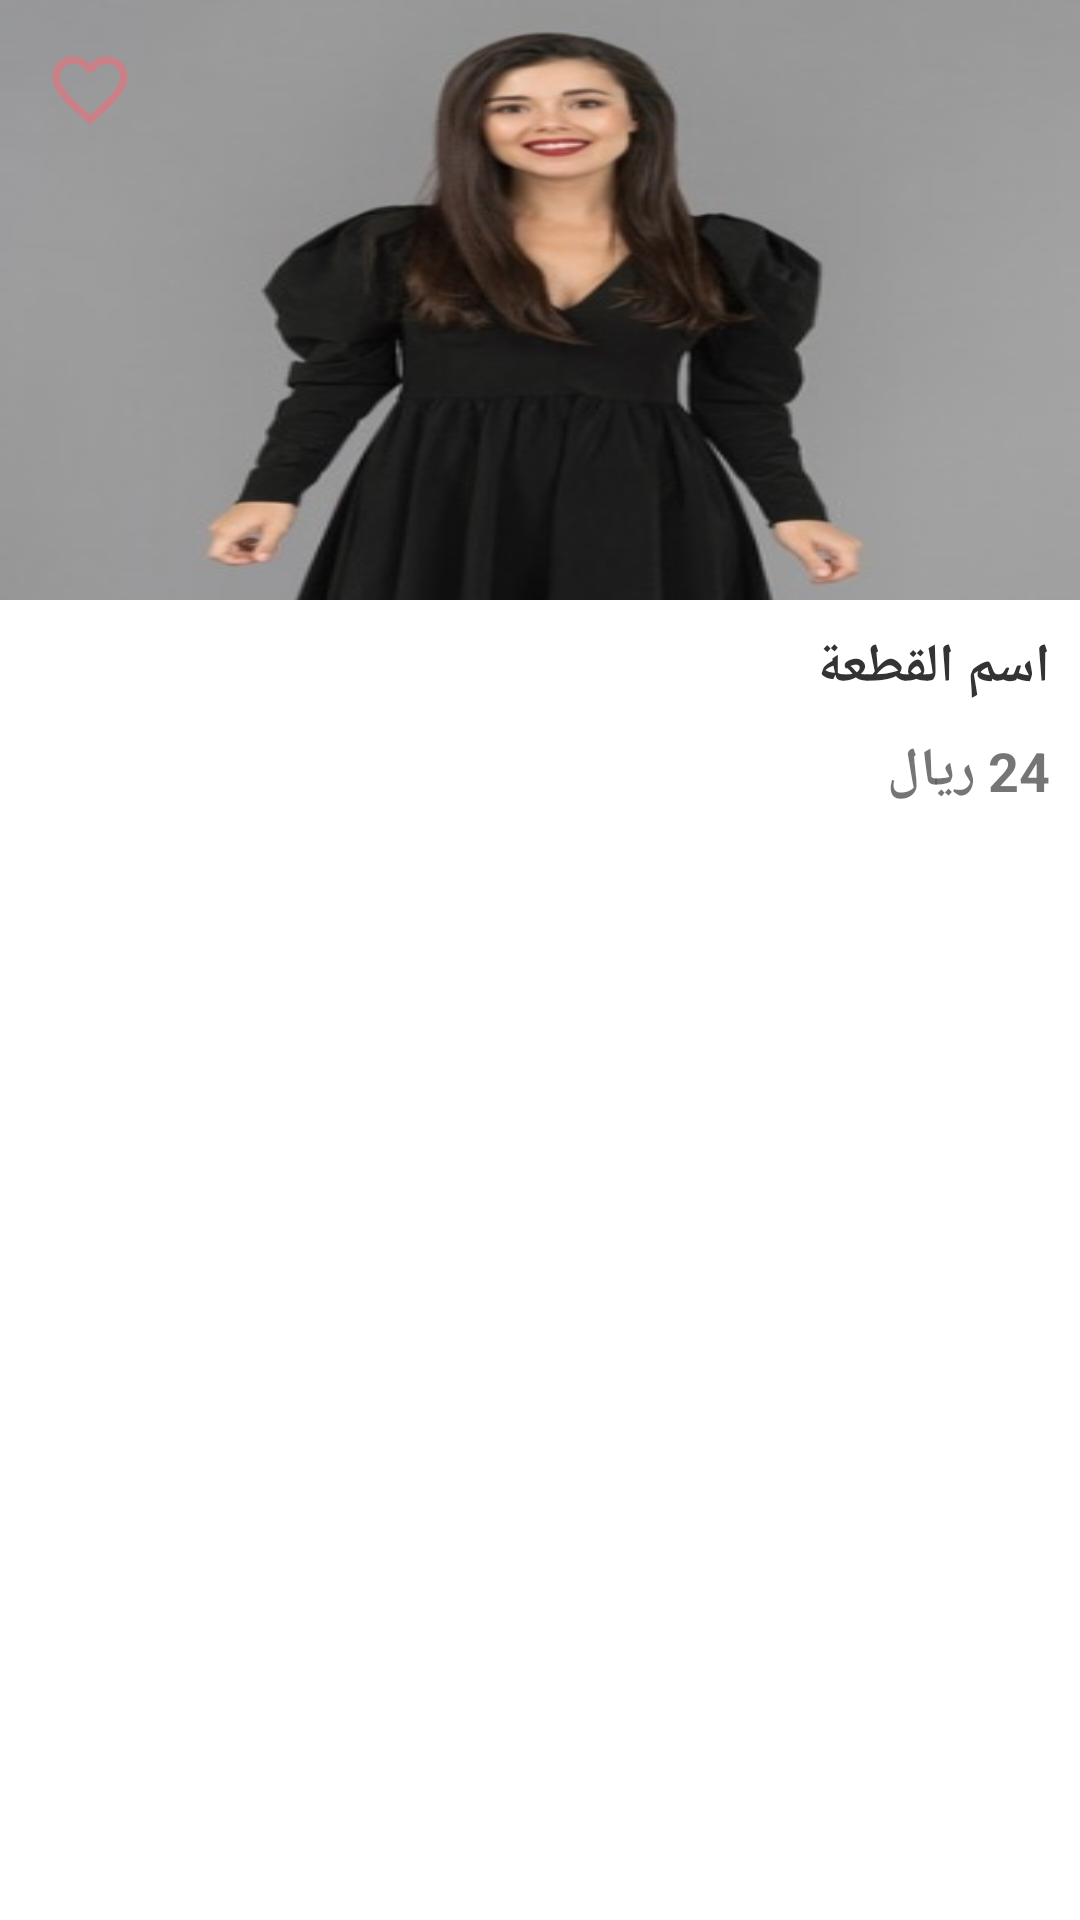

Icons on this 1080x1920 Android screen, each with its box as (x1=x1, y1=y1, x2=x2, y2=y2):
un favorite: (x1=53, y1=56, x2=127, y2=125)
